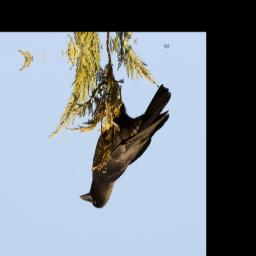Crow: (71, 78, 178, 216)
